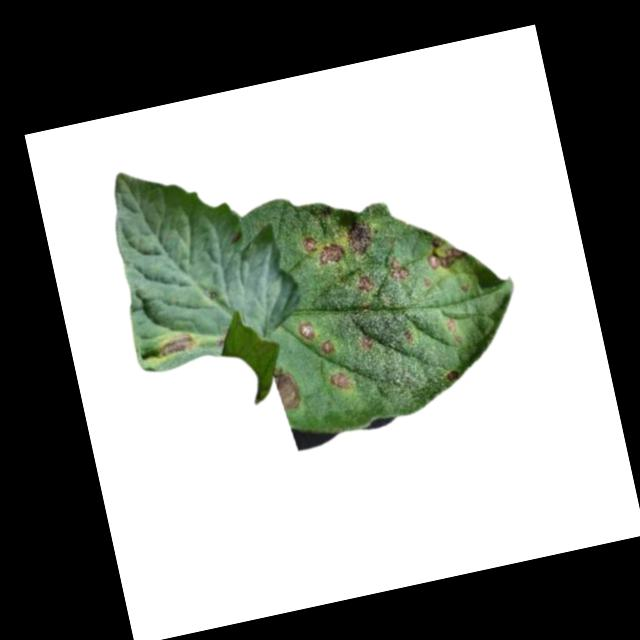Early_blight: (420, 228, 470, 274), (151, 326, 197, 365), (271, 363, 305, 414), (342, 217, 380, 260), (315, 238, 347, 266), (325, 369, 353, 394), (386, 254, 409, 283), (295, 316, 318, 342), (355, 270, 377, 294), (440, 365, 461, 384), (299, 235, 317, 255), (358, 333, 374, 351), (319, 338, 336, 354), (400, 327, 415, 345), (444, 316, 459, 334)
